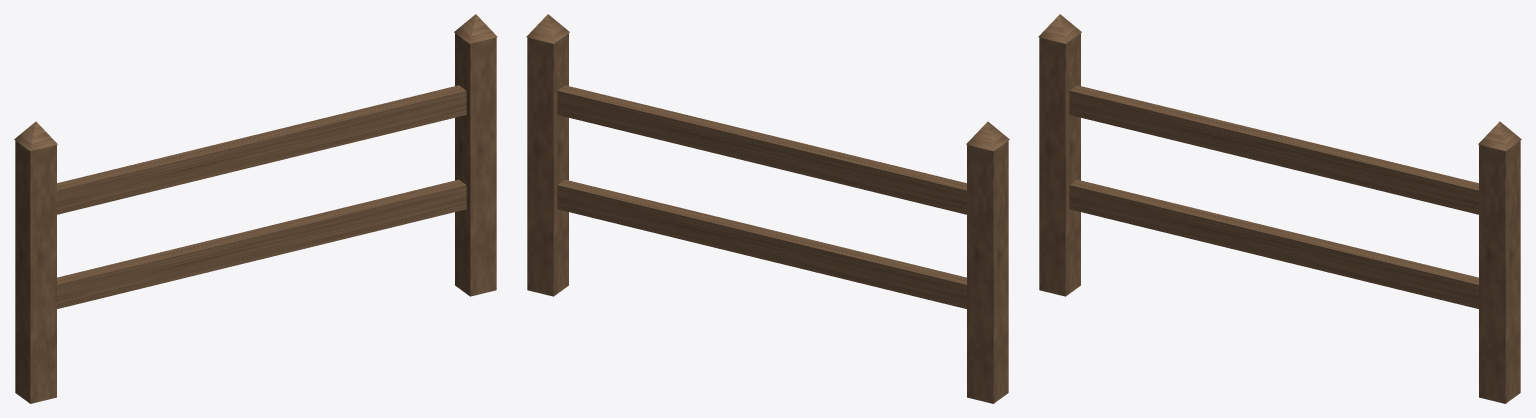
File: fence.glb
3 renders of one model, left to right at view 1: azimuth 30°, elevation 25°; view 2: azimuth 150°, elevation 25°; view 3: azimuth 330°, elevation 25°, orthographic.
Visible parts, largest first — view 1: fence_warm_weathered_hardwood; view 2: fence_warm_weathered_hardwood; view 3: fence_warm_weathered_hardwood.
Part boxes in pixels (<box>): fence_warm_weathered_hardwood: <box>14,14,497,403</box>; fence_warm_weathered_hardwood: <box>526,14,1009,403</box>; fence_warm_weathered_hardwood: <box>1038,14,1521,403</box>.
Bounding box in the file's own units: 2.13 × 1.19 × 0.1273.
Materials: 1 (1 with a texture image).
